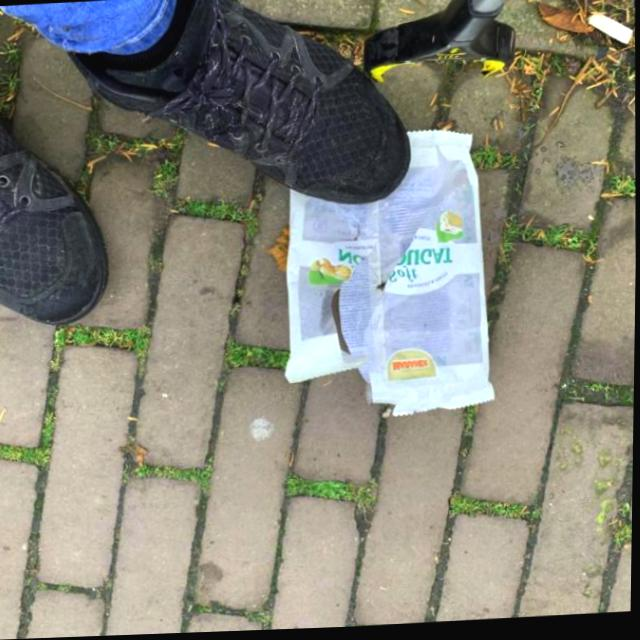Plastic: (276, 127, 500, 427)
